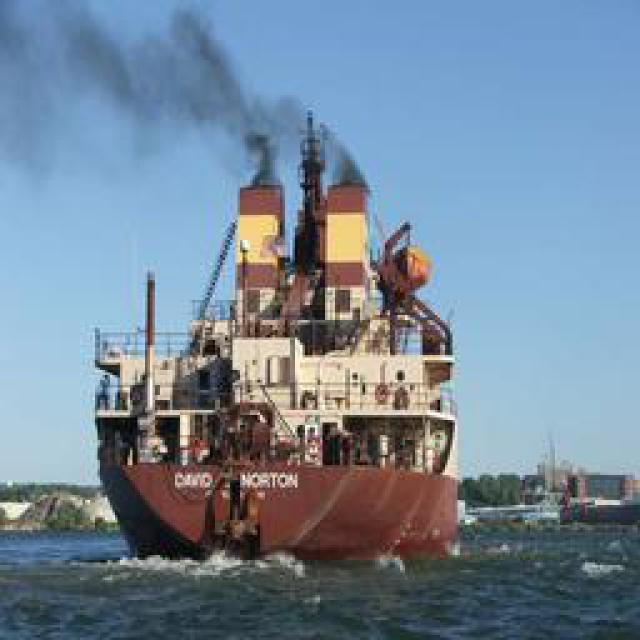Ship: (88, 105, 466, 570)
